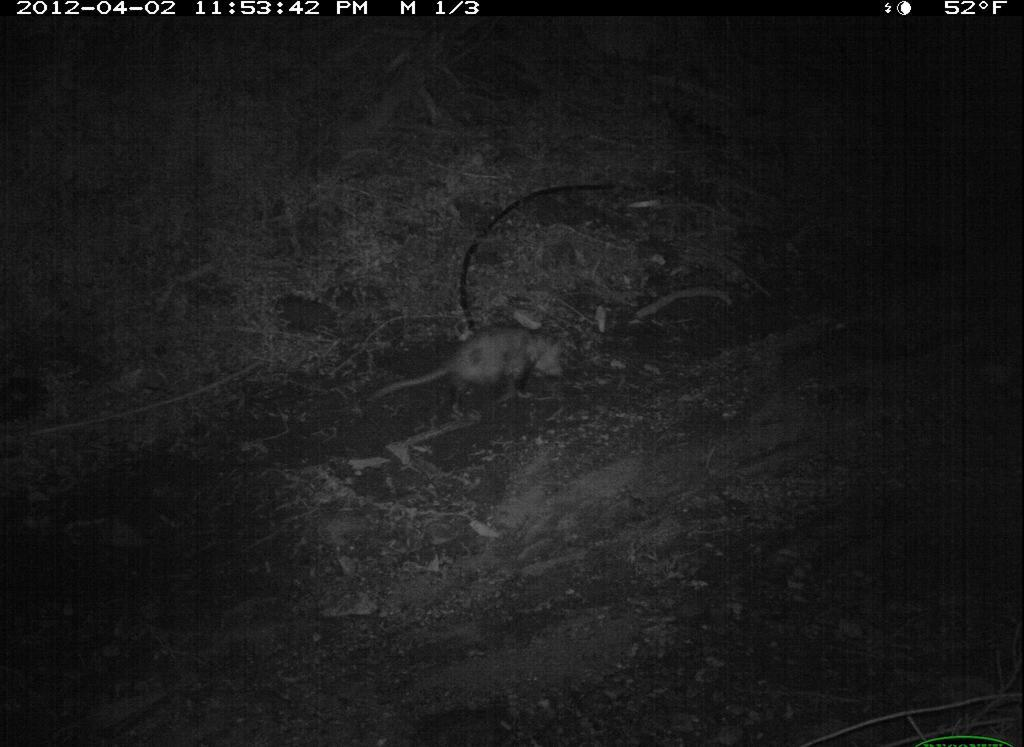opossum: (358, 319, 575, 427)
